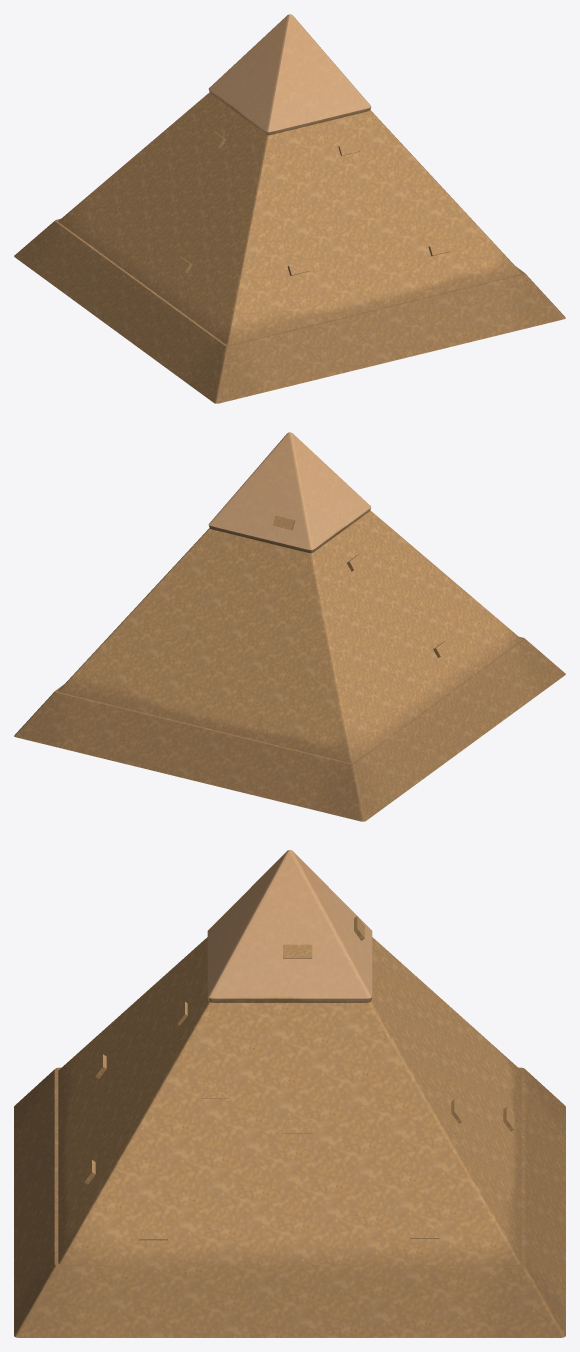
File: Egypt_Pyramid.fbx
The picture shows the model from 3 angles, top to bottom: view 1: azimuth 30°, elevation 25°; view 2: azimuth 150°, elevation 25°; view 3: azimuth 270°, elevation 25°; orthographic projection. The views are drawn at different scales.
Visible parts, largest first — view 1: Egypt_Pyramid1; view 2: Egypt_Pyramid1; view 3: Egypt_Pyramid1.
Boxes of the visible parts, x1,y1,x2,y2 form: Egypt_Pyramid1: [14, 14, 565, 403]; Egypt_Pyramid1: [14, 432, 565, 821]; Egypt_Pyramid1: [14, 850, 565, 1337].
Size of the model in its own units: 2352 by 1745 by 2352.
